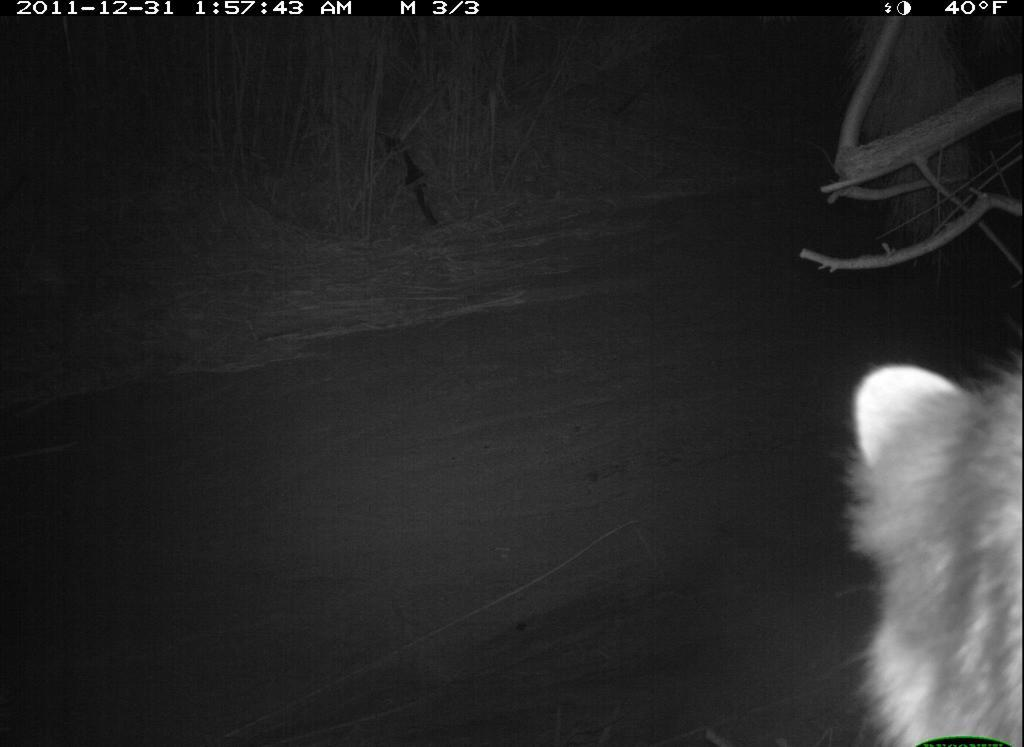raccoon: (822, 342, 1021, 740)
